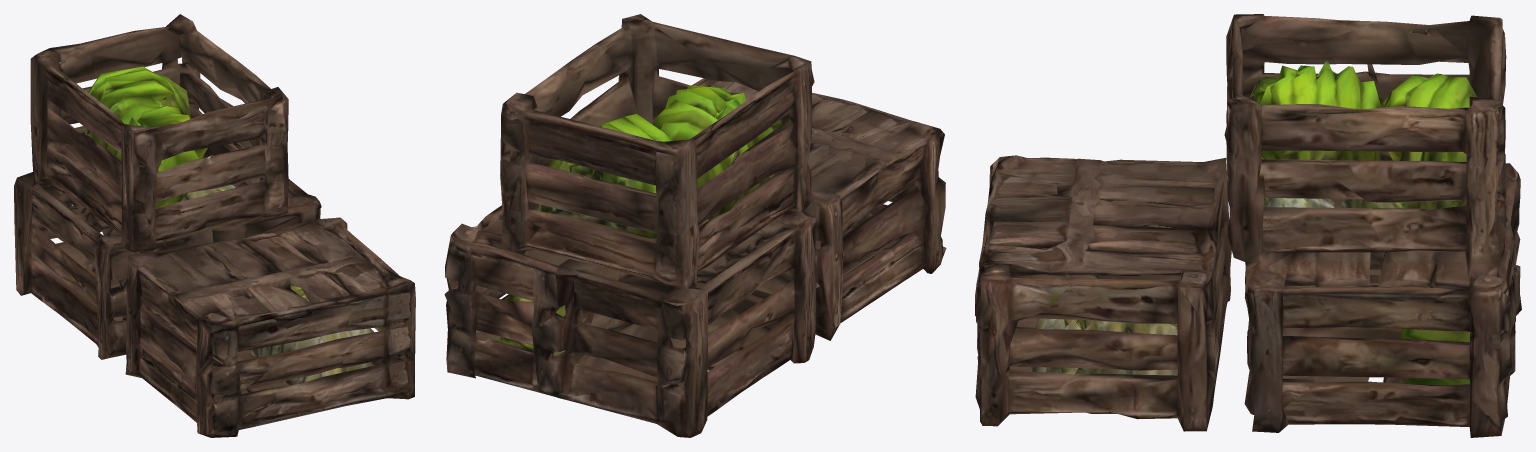
The model's file is banana-cargo.glb.
The picture shows the model from 3 angles, left to right: view 1: azimuth 30°, elevation 25°; view 2: azimuth 150°, elevation 25°; view 3: azimuth 270°, elevation 25°; orthographic projection. The views are drawn at different scales.
Visible parts, largest first — view 1: tripo_node_2fd717dd-ecc7-4e7b-b6ef-23a187d8e7c1; view 2: tripo_node_2fd717dd-ecc7-4e7b-b6ef-23a187d8e7c1; view 3: tripo_node_2fd717dd-ecc7-4e7b-b6ef-23a187d8e7c1.
Part boxes in pixels (x1,y1,x2,y2): tripo_node_2fd717dd-ecc7-4e7b-b6ef-23a187d8e7c1: (14, 14, 415, 437); tripo_node_2fd717dd-ecc7-4e7b-b6ef-23a187d8e7c1: (444, 14, 946, 437); tripo_node_2fd717dd-ecc7-4e7b-b6ef-23a187d8e7c1: (975, 14, 1521, 437).
Size of the model in its own units: 0.5869 by 0.6017 by 0.9743.
1 material, 1 textured.
